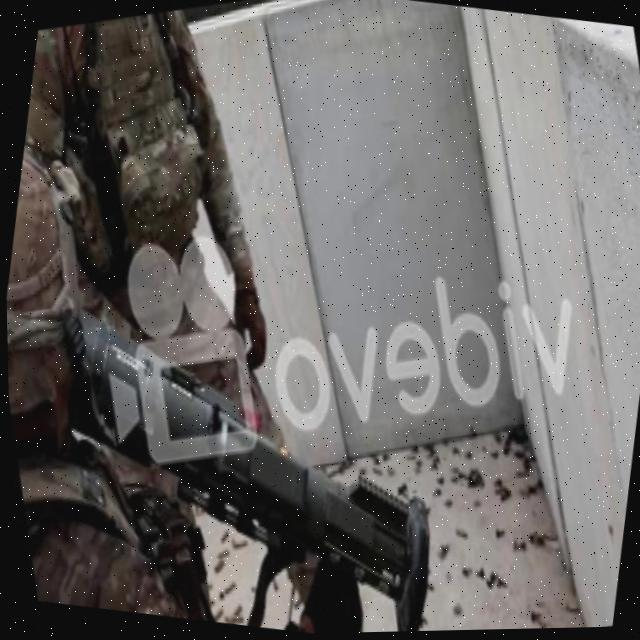rocket: (50, 237, 490, 639)
